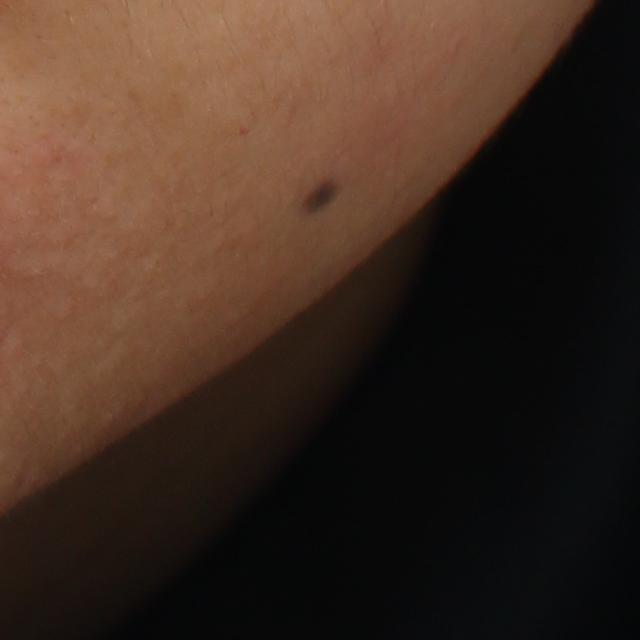nevus: (299, 177, 341, 214)
